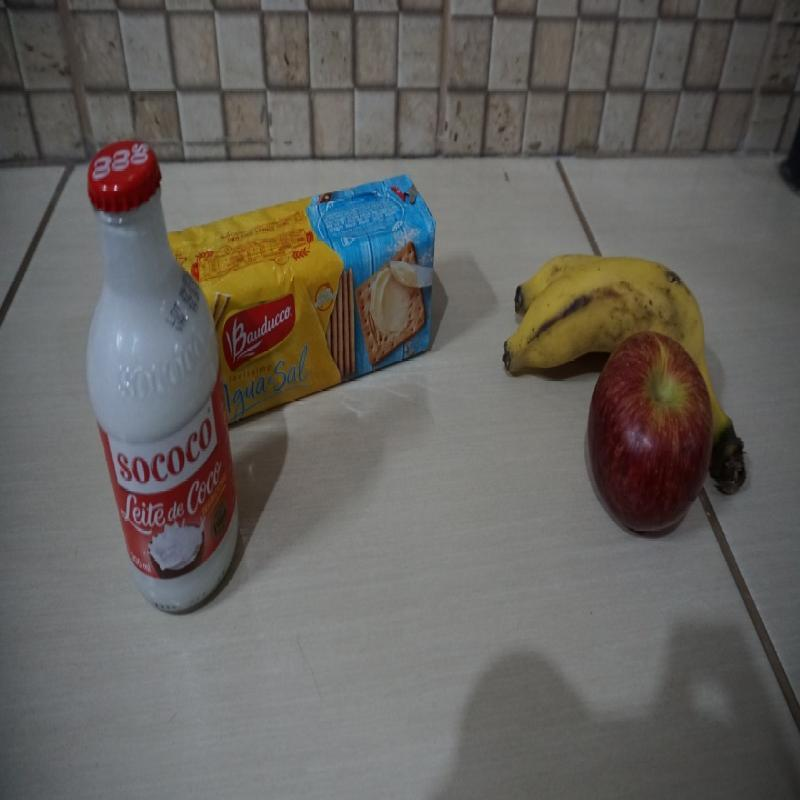Apple: (585, 330, 714, 536)
Banana: (502, 254, 704, 378)
Coconut Milk: (83, 135, 240, 618)
Cracker: (166, 172, 436, 431)
